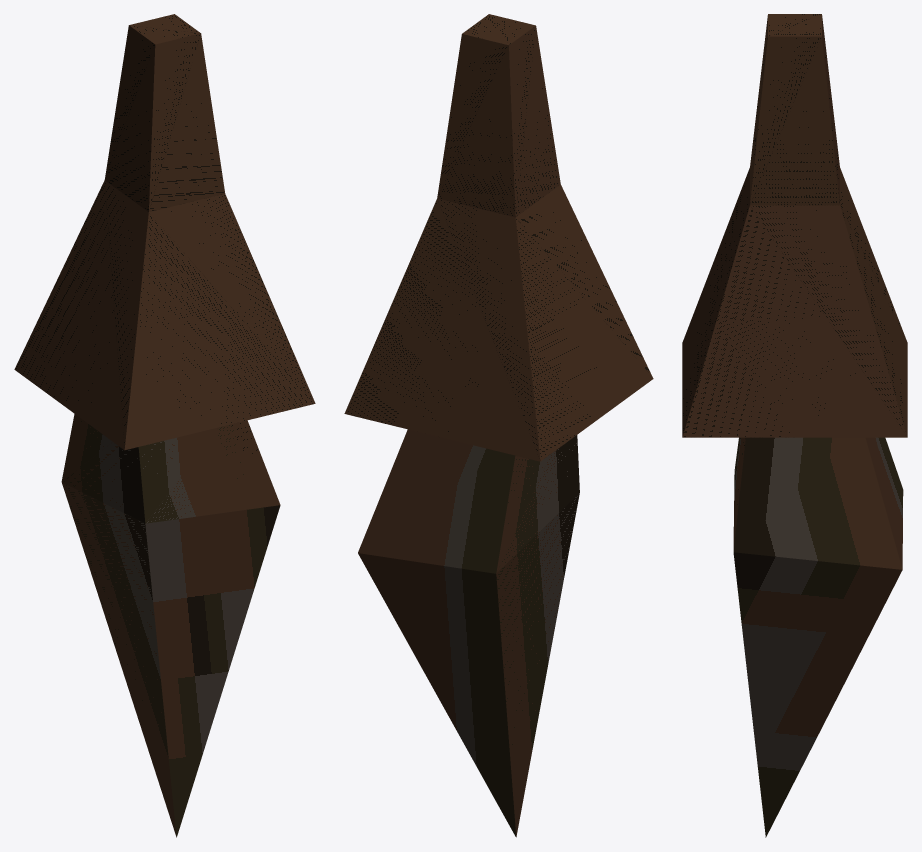
File: TORCH2.obj
3 renders of one model, left to right at view 1: azimuth 30°, elevation 25°; view 2: azimuth 150°, elevation 25°; view 3: azimuth 270°, elevation 25°, orthographic. The views are drawn at different scales.
Visible parts, largest first — view 1: Cube, Cube.001; view 2: Cube, Cube.001; view 3: Cube, Cube.001.
Boxes of the visible parts, x1,y1,x2,y2 form: Cube: (14,14,315,450); Cube.001: (61,414,280,837); Cube: (344,14,653,461); Cube.001: (358,429,579,837); Cube: (682,14,907,437); Cube.001: (733,437,903,837).
Bounding box in the file's own units: 1.02 × 4.05 × 1.02.
3 materials, 3 textured.
